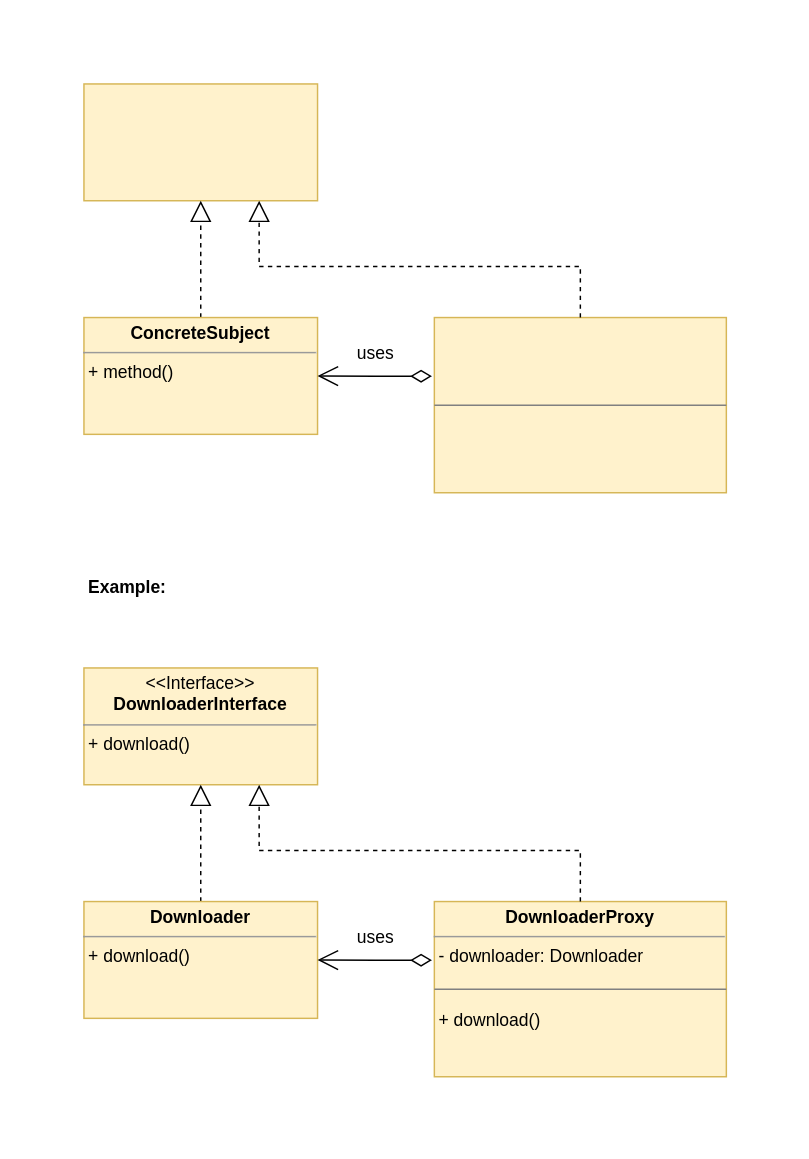
Some shapes in this 809 by 1159 pixel diagram are drawn without their labels. The shapes that lost their labels are listed below. From the top down, each one's centre as x and y in pixels, then its label:
At (200,141): "<<Interface>> SubjectInterface + method()".
At (579,404): "Proxy - concreteSubject: ConcreteSubject + method()".
